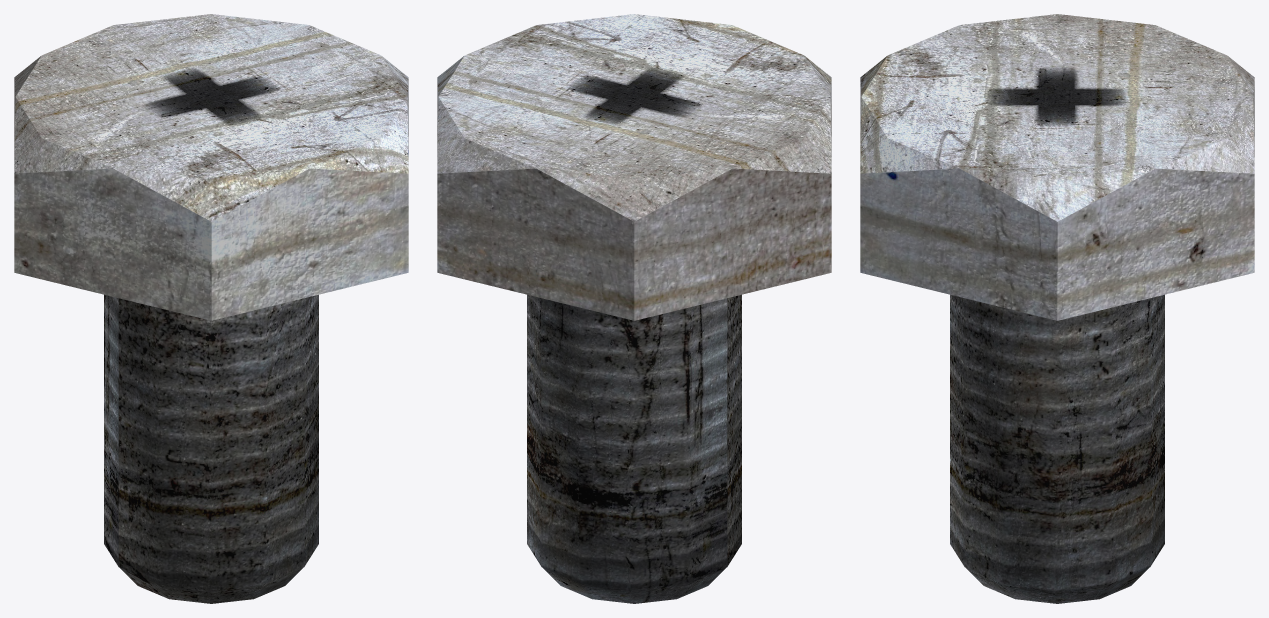
The model's file is bolt1.fbx.
The picture shows the model from 3 angles, left to right: view 1: azimuth 30°, elevation 25°; view 2: azimuth 150°, elevation 25°; view 3: azimuth 270°, elevation 25°; orthographic projection.
Parts seen in each view (by area): view 1: Bolt_low; view 2: Bolt_low; view 3: Bolt_low.
Part boxes in pixels (left/top/right/bottom): Bolt_low: left=14, top=14, right=408, bottom=603; Bolt_low: left=437, top=14, right=831, bottom=603; Bolt_low: left=860, top=14, right=1254, bottom=603.
Size of the model in its own units: 1.15 by 1.32 by 1.
